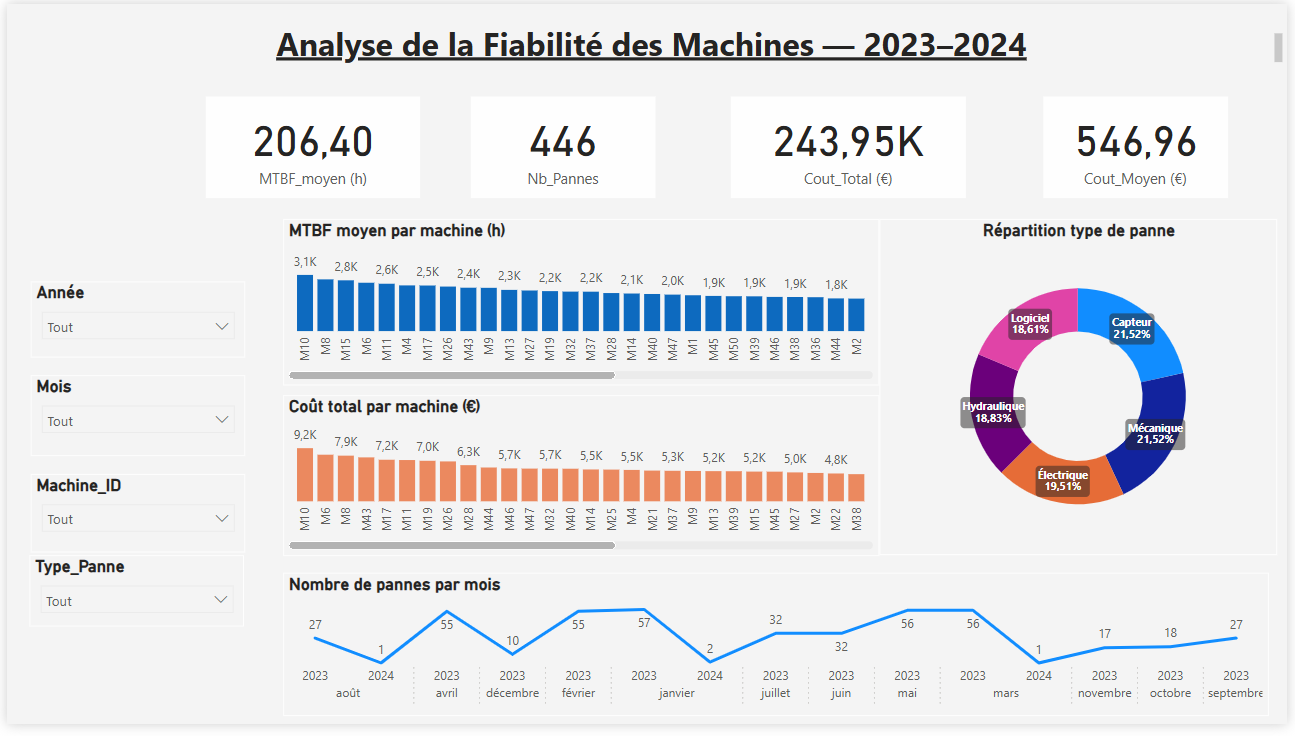

Layout of this report page (visuals, bound fields, positions):
{"tool":"powerbi","page":{"name":"Page 1","canvas":[1280,720],"ordinal":0},"visuals":[{"type":"card","fields":{"Values":["Fiabilite.MTBF_moyen"]},"box":[199.1,92.9,214.7,101.3],"z":0},{"type":"card","fields":{"Values":["Fiabilite.Cout_Total"]},"box":[723.9,92.9,235.3,101.3],"z":1000},{"type":"card","fields":{"Values":["Fiabilite.Cout_Moyen"]},"box":[1036.3,92.9,184.6,101.3],"z":2000},{"type":"card","fields":{"Values":["Fiabilite.Nb_Pannes"]},"box":[463.3,92.9,184.6,101.3],"z":3000},{"type":"columnChart","title":"MTBF moyen par machine (h)","fields":{"Category":["Fiabilite (2).Machine_ID"],"Y":["Sum(Fiabilite (2).MTBF)"]},"box":[276.2,215,596.2,166.2],"z":4000},{"type":"columnChart","title":"Coût total par machine (€)","fields":{"Y":["Fiabilite.Cout_Total"],"Category":["Fiabilite.Machine_ID"]},"box":[276.3,390.9,596,160.5],"z":5000},{"type":"donutChart","title":"Répartition type de panne","fields":{"Y":["Fiabilite.Nb_Pannes"],"Category":["Fiabilite.Type_Panne"]},"box":[872.5,215,397.5,336.2],"z":6000},{"type":"lineChart","title":"Nombre de pannes par mois","fields":{"Category":["Fiabilite.Mois","Fiabilite.Année"],"Y":["Fiabilite.Nb_Pannes"]},"box":[276.3,568.2,985.7,143.6],"z":7000},{"type":"slicer","title":"Machine_ID","fields":{"Values":["Fiabilite.Machine_ID"]},"box":[23.1,470.5,214.7,78.4],"z":8000},{"type":"slicer","title":"Type_Panne","fields":{"Values":["Fiabilite.Type_Panne"]},"box":[22.9,551.3,214.7,71.2],"z":9000},{"type":"textbox","box":[15.7,12.8,1264.3,51.4],"z":10000},{"type":"slicer","title":"Année","fields":{"Values":["Fiabilite.Année"]},"box":[23.1,277.5,214.7,76],"z":11000},{"type":"slicer","title":"Mois","fields":{"Values":["Fiabilite.Mois"]},"box":[23.1,371.6,214.7,80.8],"z":12000}]}

Visuals, with their boxes in screenshot pixels (x1, y1, x2, y2), scaled from the page's 1280x720 canvas onto the 1295x736 screenshot:
card - Fiabilite.MTBF_moyen: 201 95 419 199
card - Fiabilite.Cout_Total: 732 95 970 199
card - Fiabilite.Cout_Moyen: 1048 95 1235 199
card - Fiabilite.Nb_Pannes: 469 95 655 199
"MTBF moyen par machine (h)" columnChart: 279 220 883 390
"Coût total par machine (€)" columnChart: 280 400 883 564
"Répartition type de panne" donutChart: 883 220 1285 563
"Nombre de pannes par mois" lineChart: 280 581 1277 728
"Machine_ID" slicer: 23 481 241 561
"Type_Panne" slicer: 23 564 240 636
textbox: 16 13 1294 66
"Année" slicer: 23 284 241 361
"Mois" slicer: 23 380 241 462
